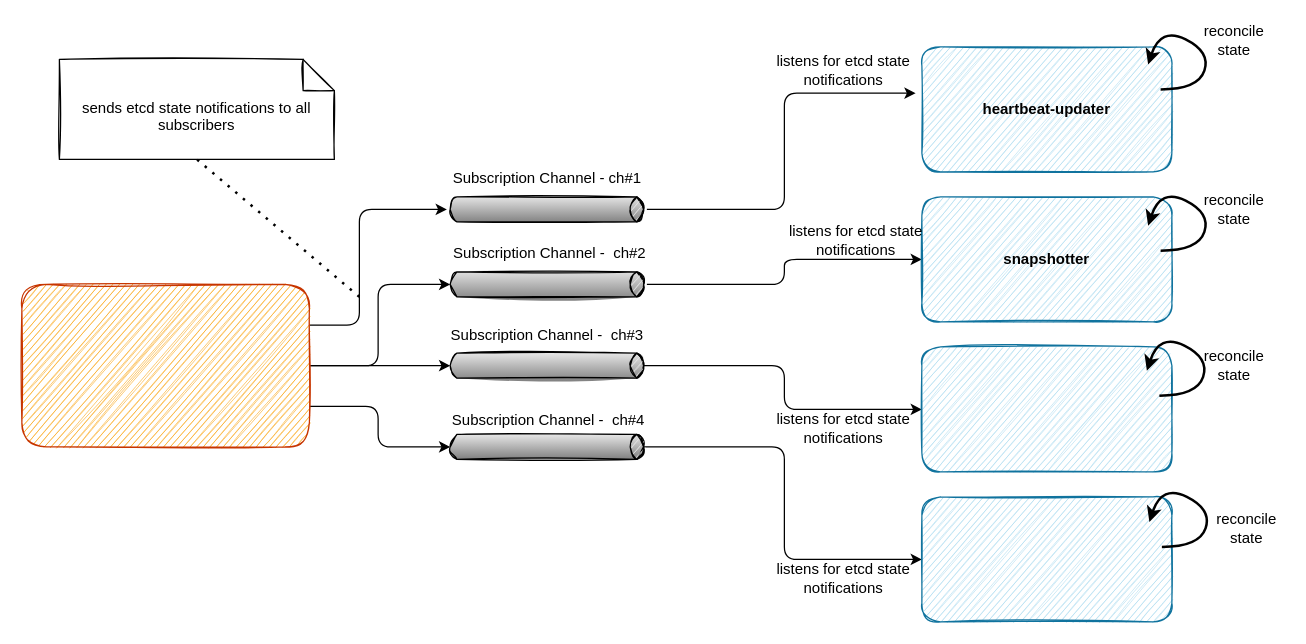
The diagram is 1306 pixels wide and 644 high, and some of its shapes have lost their labels. The shapes that lost their labels are listed below. From the top down, each one's centre as x and y in pixels, then its label:
At (x=165, y=365): "etcd-monitor".
At (x=1046, y=409): "defragmenter".
At (x=1046, y=559): "restorer".
